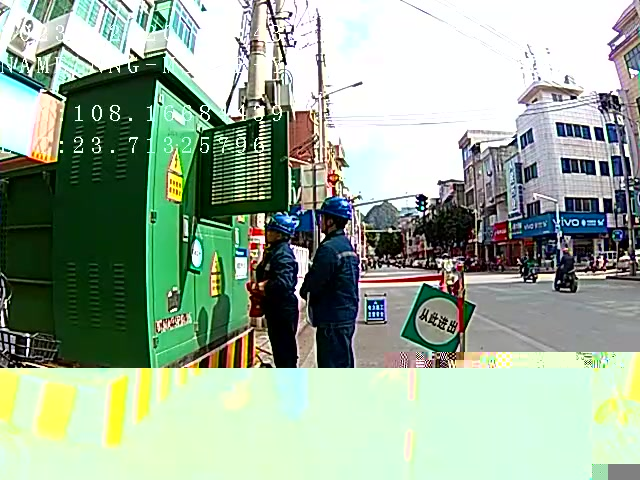halt: (320, 199, 356, 237), (267, 217, 296, 245)
inear: (324, 217, 342, 236)
